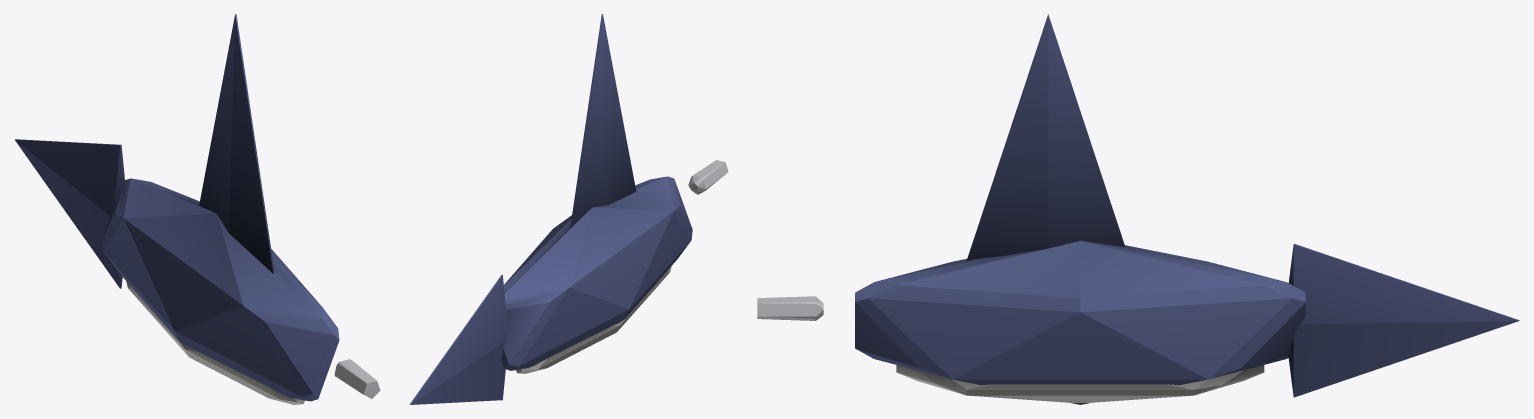
Rendered from FishSword.fbx.
3 renders of one model, left to right at view 1: azimuth 30°, elevation 25°; view 2: azimuth 150°, elevation 25°; view 3: azimuth 270°, elevation 25°, orthographic. The views are drawn at different scales.
Visible parts, largest first — view 1: Body; view 2: Body; view 3: Body.
Boxes of the visible parts, x1,y1,x2,y2 form: Body: [15, 14, 380, 404]; Body: [410, 14, 728, 404]; Body: [757, 14, 1519, 404].
Bounding box in the file's own units: 0.1758 × 0.6684 × 1.19.
